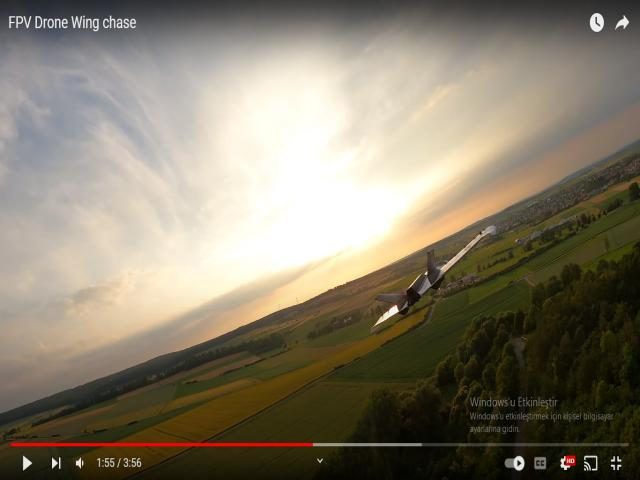plane: (371, 224, 498, 330)
